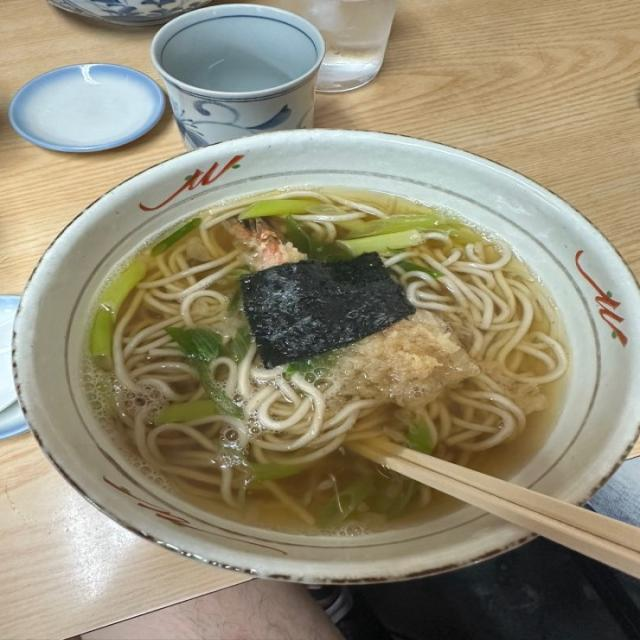Bowl: (11, 126, 638, 587)
Cup: (149, 3, 326, 151), (269, 0, 399, 95)
Plate: (13, 63, 152, 143)
